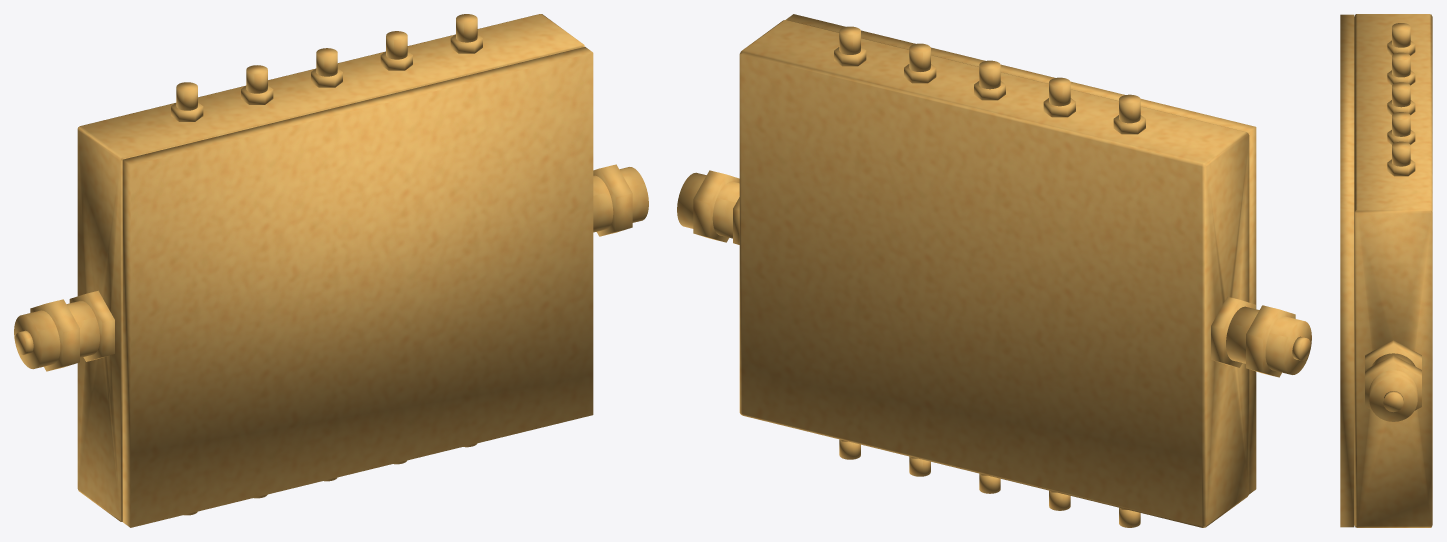
The model's file is basilisk-2.glb.
The picture shows the model from 3 angles, left to right: view 1: azimuth 30°, elevation 25°; view 2: azimuth 150°, elevation 25°; view 3: azimuth 270°, elevation 25°; orthographic projection. The views are drawn at different scales.
Visible parts, largest first — view 1: Basilisk Lid, Basilisk Package, Basilisk Hardware; view 2: Basilisk Package, Basilisk Hardware, Basilisk Lid; view 3: Basilisk Package, Basilisk Lid, Basilisk Hardware.
Boxes of the visible parts, x1,y1,x2,y2 form: Basilisk Lid: (122,47,593,527); Basilisk Package: (77,14,584,521); Basilisk Hardware: (14,14,648,515); Basilisk Package: (739,20,1249,527); Basilisk Hardware: (677,26,1311,527); Basilisk Lid: (786,14,1256,494); Basilisk Package: (1354,14,1432,527); Basilisk Lid: (1340,14,1354,527); Basilisk Hardware: (1365,23,1421,421).
Bounding box in the file's own units: 0.08 × 0.0522 × 0.0118.
13 materials, 4 textured.
